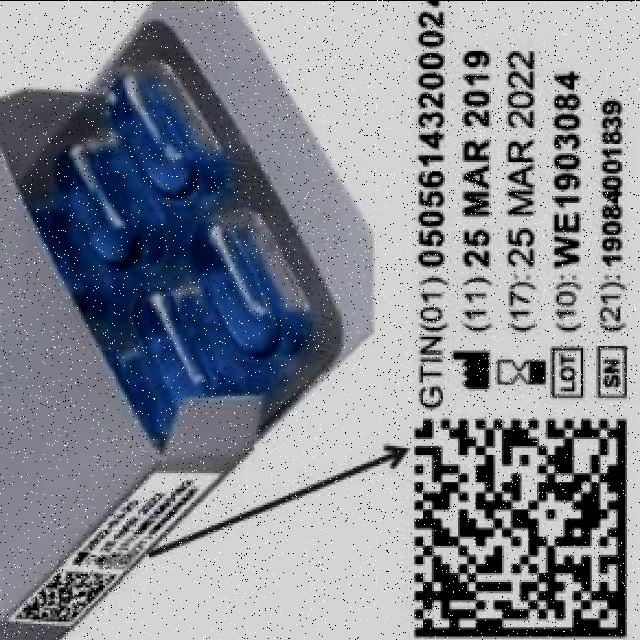datamatrix: (407, 409, 637, 640), (2, 562, 123, 628)
